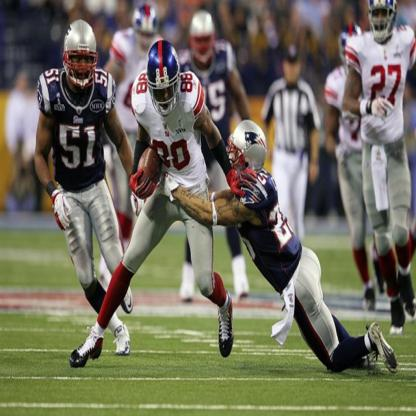face: (70, 47, 94, 86), (371, 6, 394, 40), (194, 30, 215, 64), (153, 81, 176, 112), (232, 144, 246, 176), (140, 26, 155, 52), (285, 60, 298, 84)
